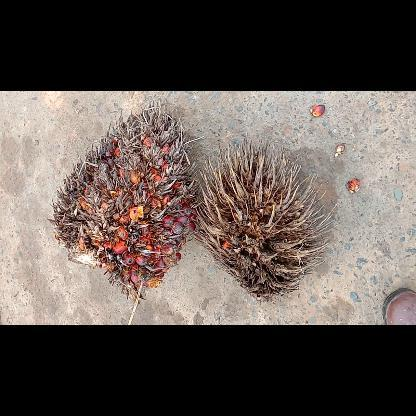Janjang kosong: (192, 138, 338, 302)
Terlalu masak: (47, 98, 201, 324)
